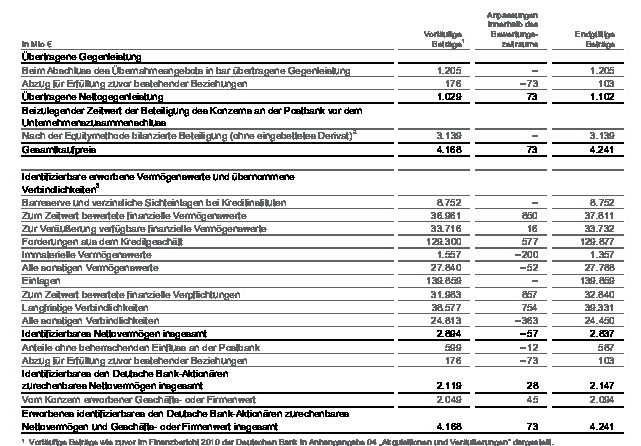table: (0, 0, 641, 446)
